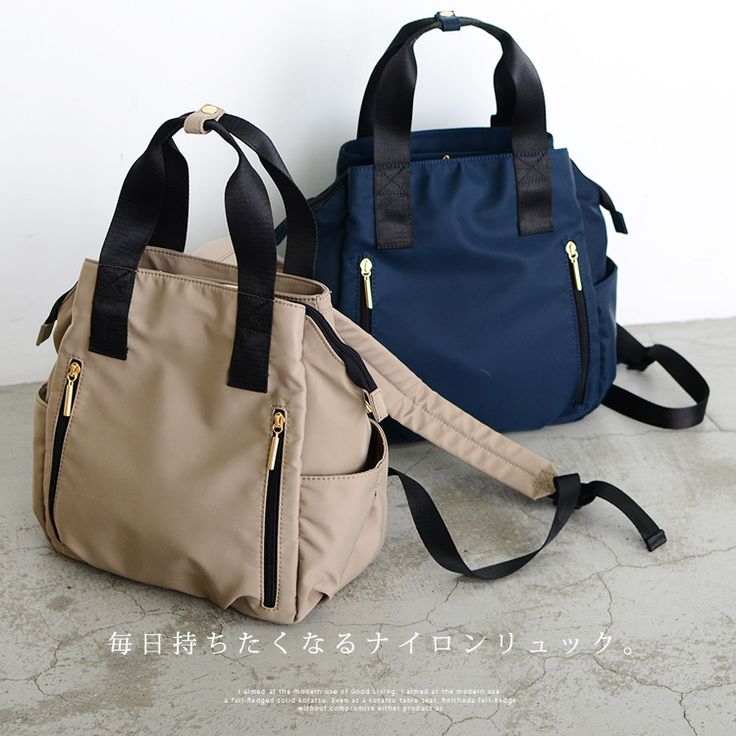nylon: (28, 123, 624, 626)
